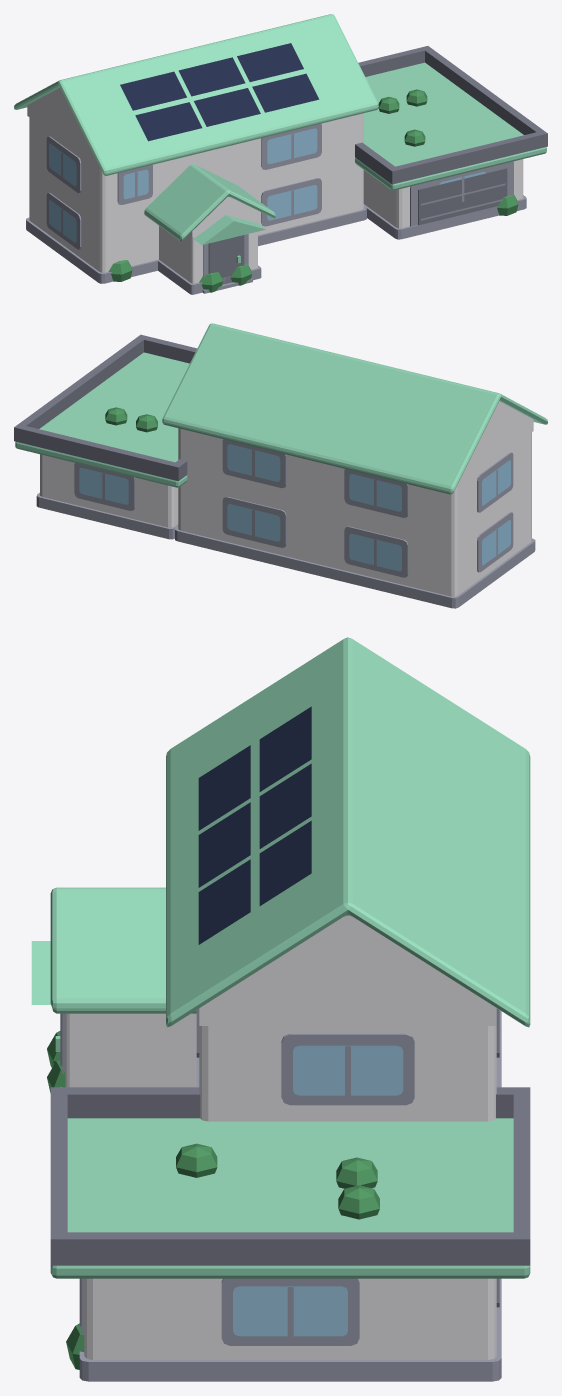
Rendered from house-2x1-2f-tone-a-solar.glb.
The picture shows the model from 3 angles, top to bottom: view 1: azimuth 30°, elevation 25°; view 2: azimuth 150°, elevation 25°; view 3: azimuth 270°, elevation 25°; orthographic projection. The views are drawn at different scales.
Visible parts, largest first — view 1: house-2x1-2f-tone-a-solar; view 2: house-2x1-2f-tone-a-solar; view 3: house-2x1-2f-tone-a-solar.
Part boxes in pixels (x1,y1,x2,y2): house-2x1-2f-tone-a-solar: (14,14,547,294); house-2x1-2f-tone-a-solar: (14,323,547,608); house-2x1-2f-tone-a-solar: (31,637,530,1381).
Bounding box in the file's own units: 2 × 0.8122 × 1.04.
Materials: 1 (1 with a texture image).
